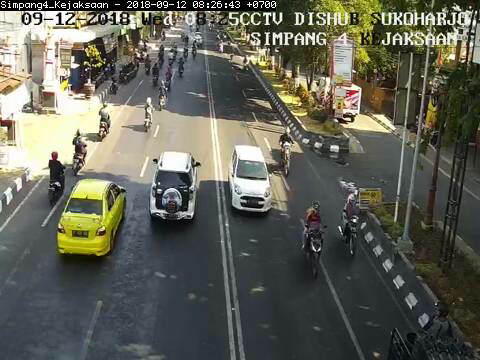motor: (300, 200, 328, 280), (337, 192, 364, 258), (274, 124, 296, 178)
